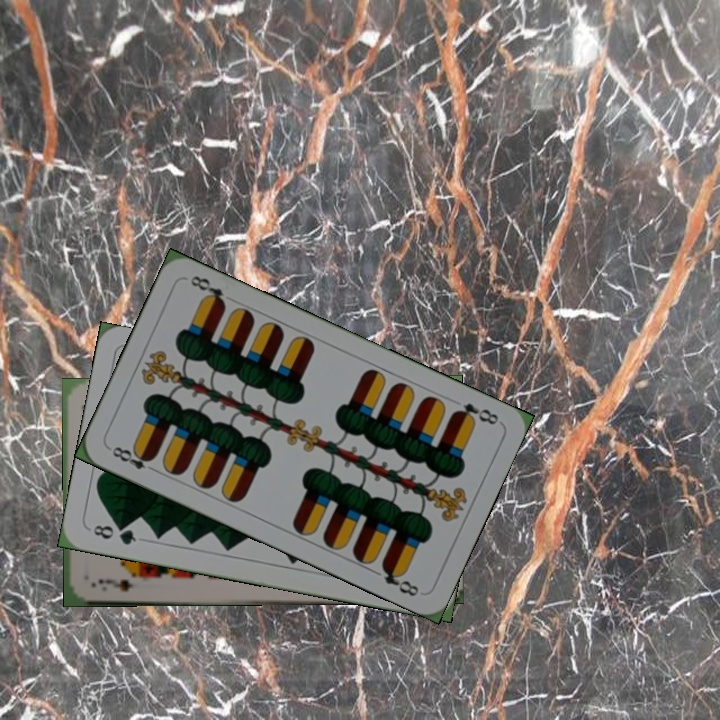E8: (105, 442, 160, 476), (448, 399, 502, 428)
G8: (89, 521, 139, 548)
S9: (94, 575, 135, 595)
